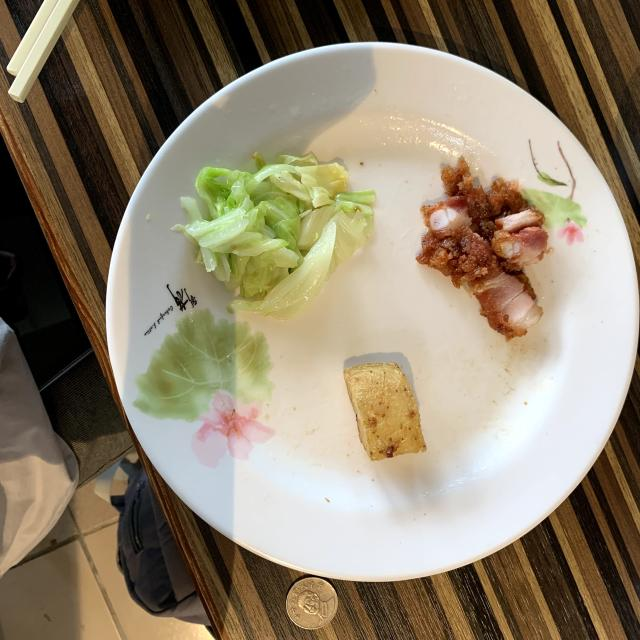cabbage: (175, 152, 375, 319)
coin: (286, 578, 338, 630)
fried potato: (344, 362, 426, 461)
red grilled pork: (416, 158, 548, 340)
